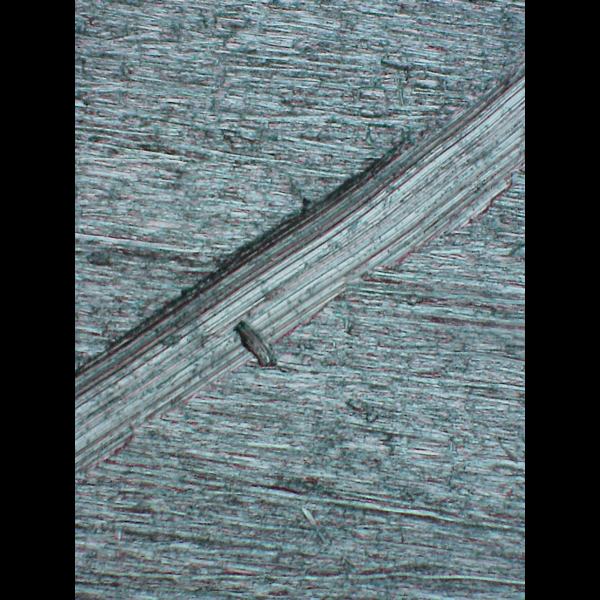d: (75, 53, 524, 486)
